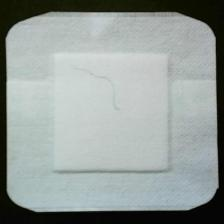Dressing: (4, 11, 224, 216)
F_Body: (66, 66, 128, 119)
